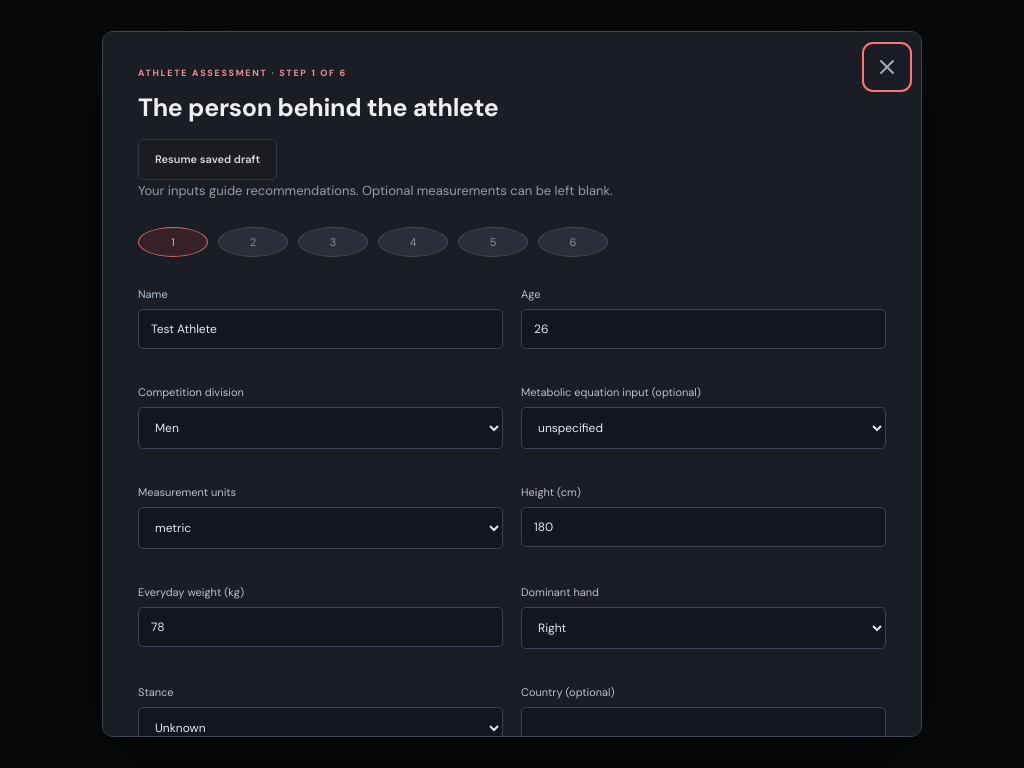
athlete assessment › supports previous answers, optional blank measurements and saves a typed profile
Later steps or results of the test are not shown.
Replace the text in the field labelled "Name" with "Sam Athlete" at x=320, y=330, box 138,310 -> 503,350
(page scrolled)
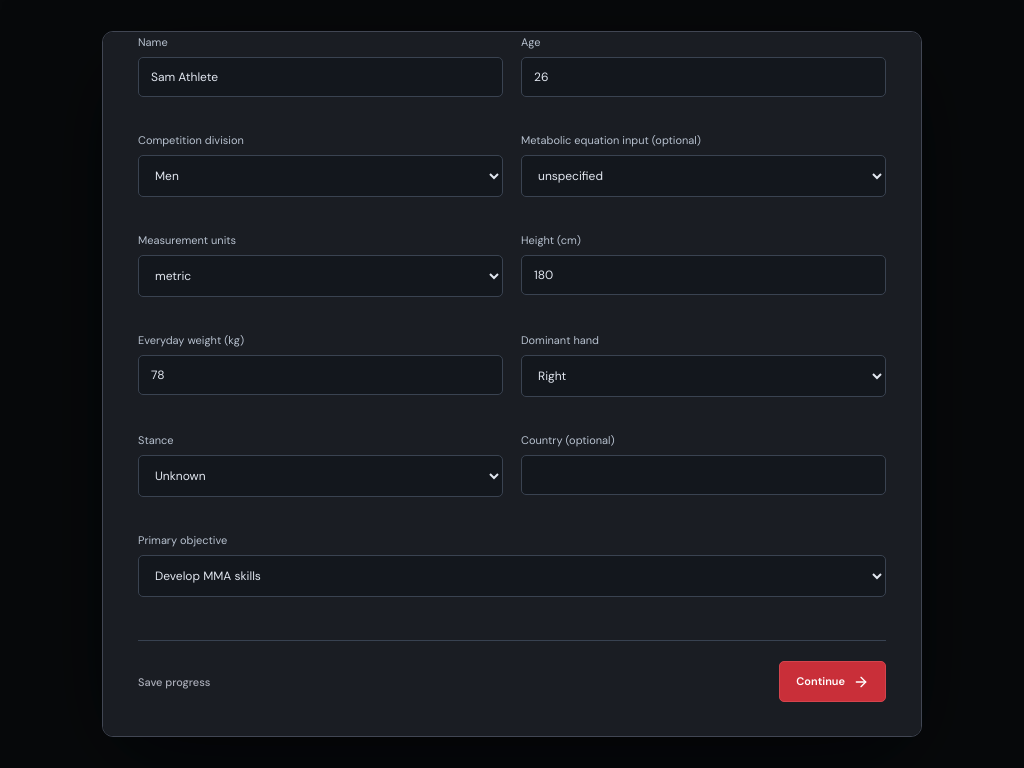
Click the button "Continue" at x=833, y=682, box 779,662 -> 886,702
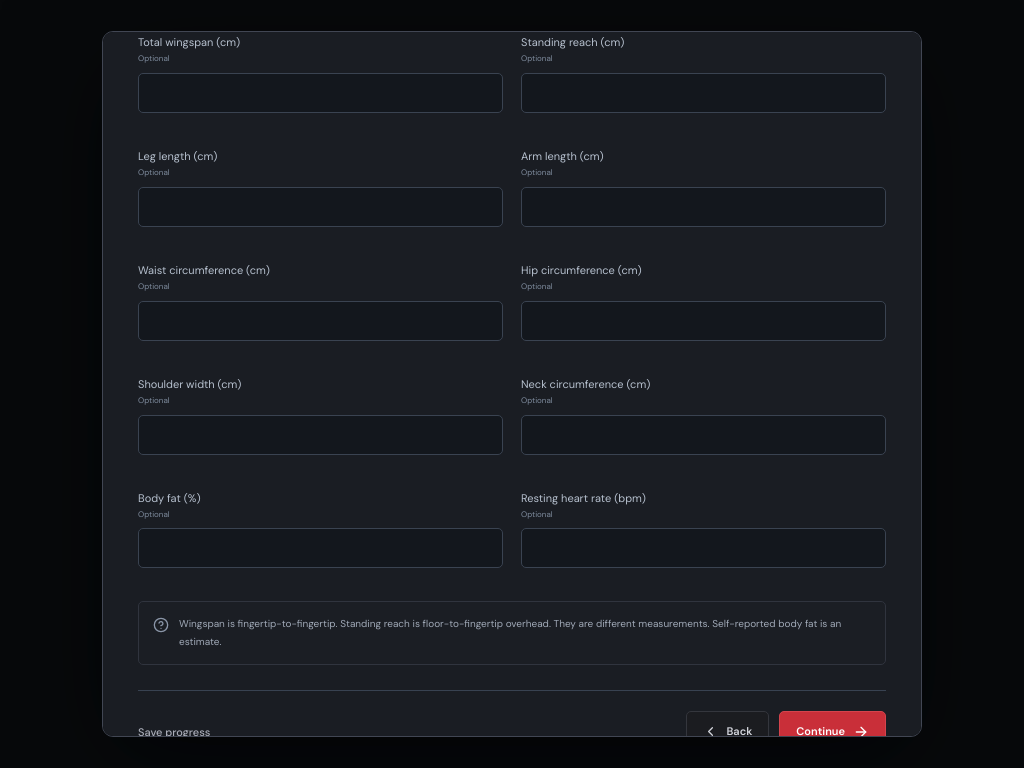
expect the number field labelled "Total wingspan (cm) Optional" is not empty: met
Type "186" into the number field labelled "Total wingspan (cm) Optional" at x=320, y=93, box 138,73 -> 503,113
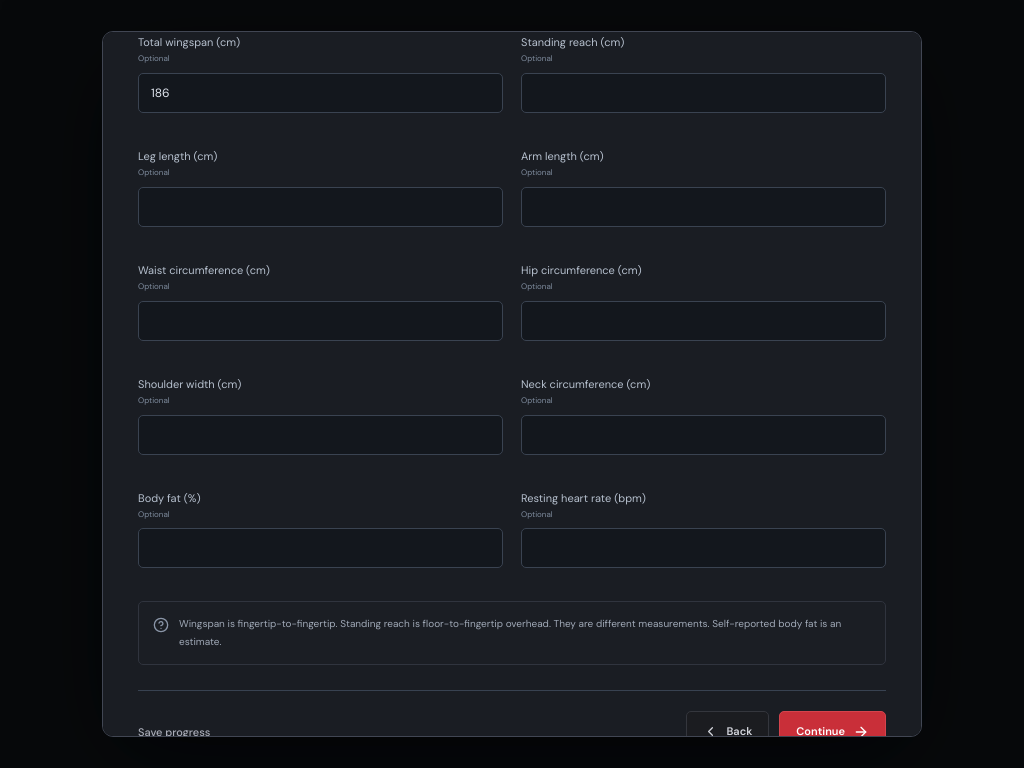
Click the button "Back" at x=728, y=732, box 686,712 -> 769,752
(page scrolled)
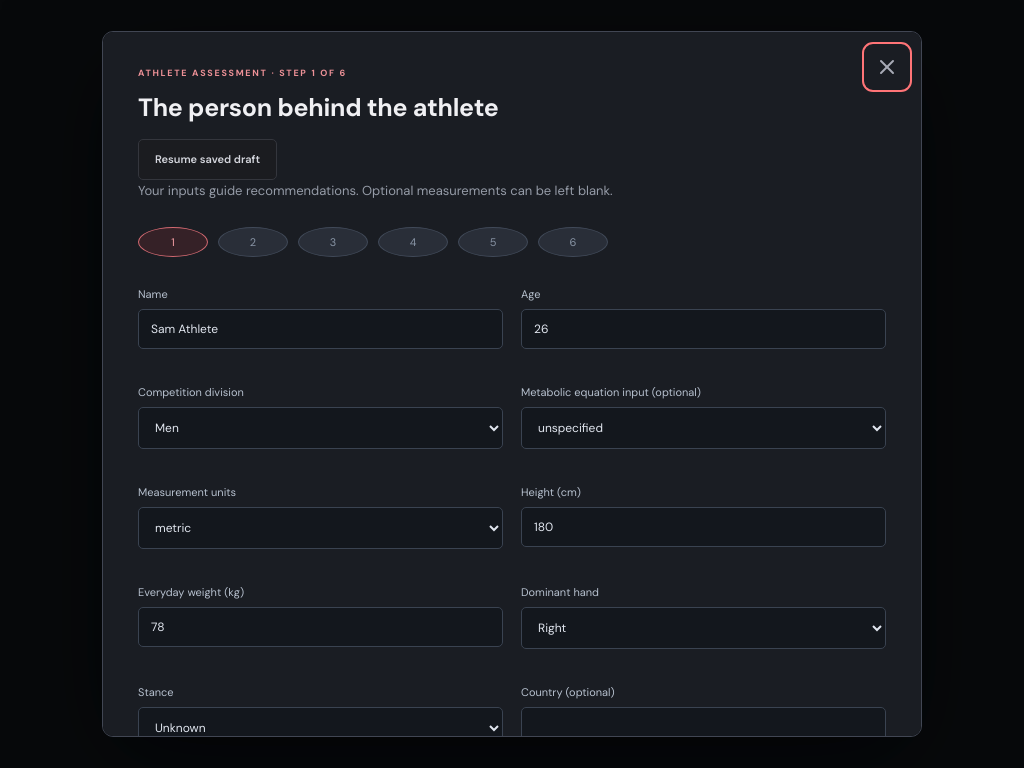
expect the field labelled "Name" holds "Sam Athlete": met, box 138,310 -> 503,350
